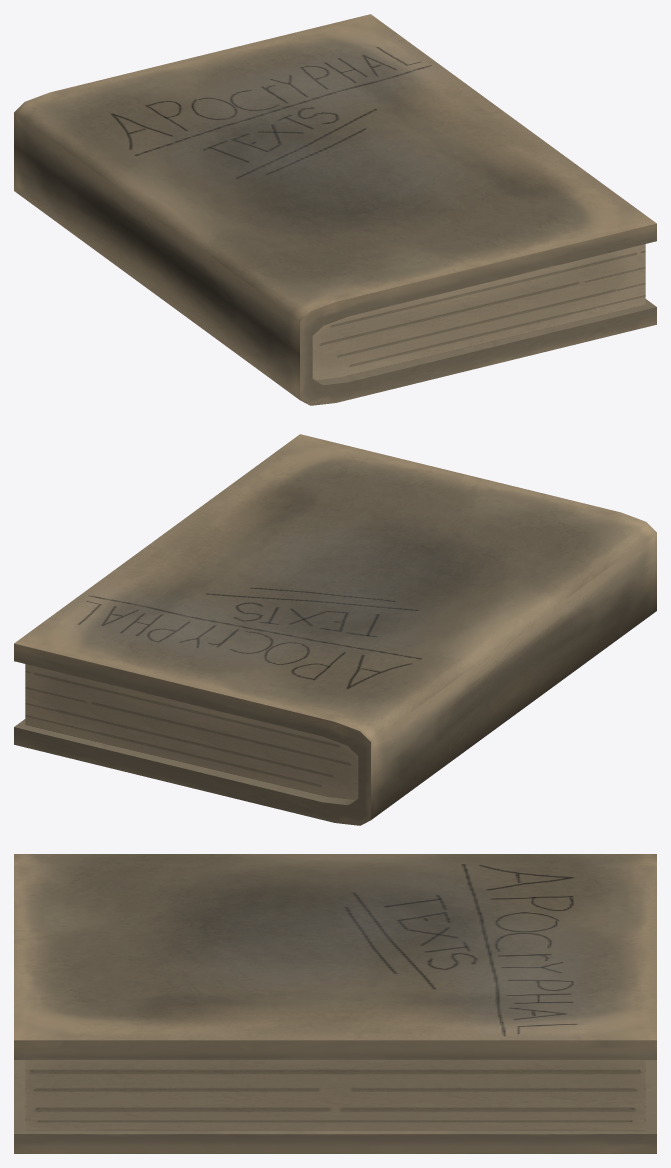
The model's file is Book.gltf.
3 renders of one model, top to bottom at view 1: azimuth 30°, elevation 25°; view 2: azimuth 150°, elevation 25°; view 3: azimuth 270°, elevation 25°, orthographic. The views are drawn at different scales.
Visible parts, largest first — view 1: Book; view 2: Book; view 3: Book.
Part boxes in pixels (<box>): Book: <box>14,14,656,405</box>; Book: <box>14,434,656,825</box>; Book: <box>14,854,656,1153</box>.
Bounding box in the file's own units: 0.288 × 0.078 × 0.4.
1 material, 1 textured.
